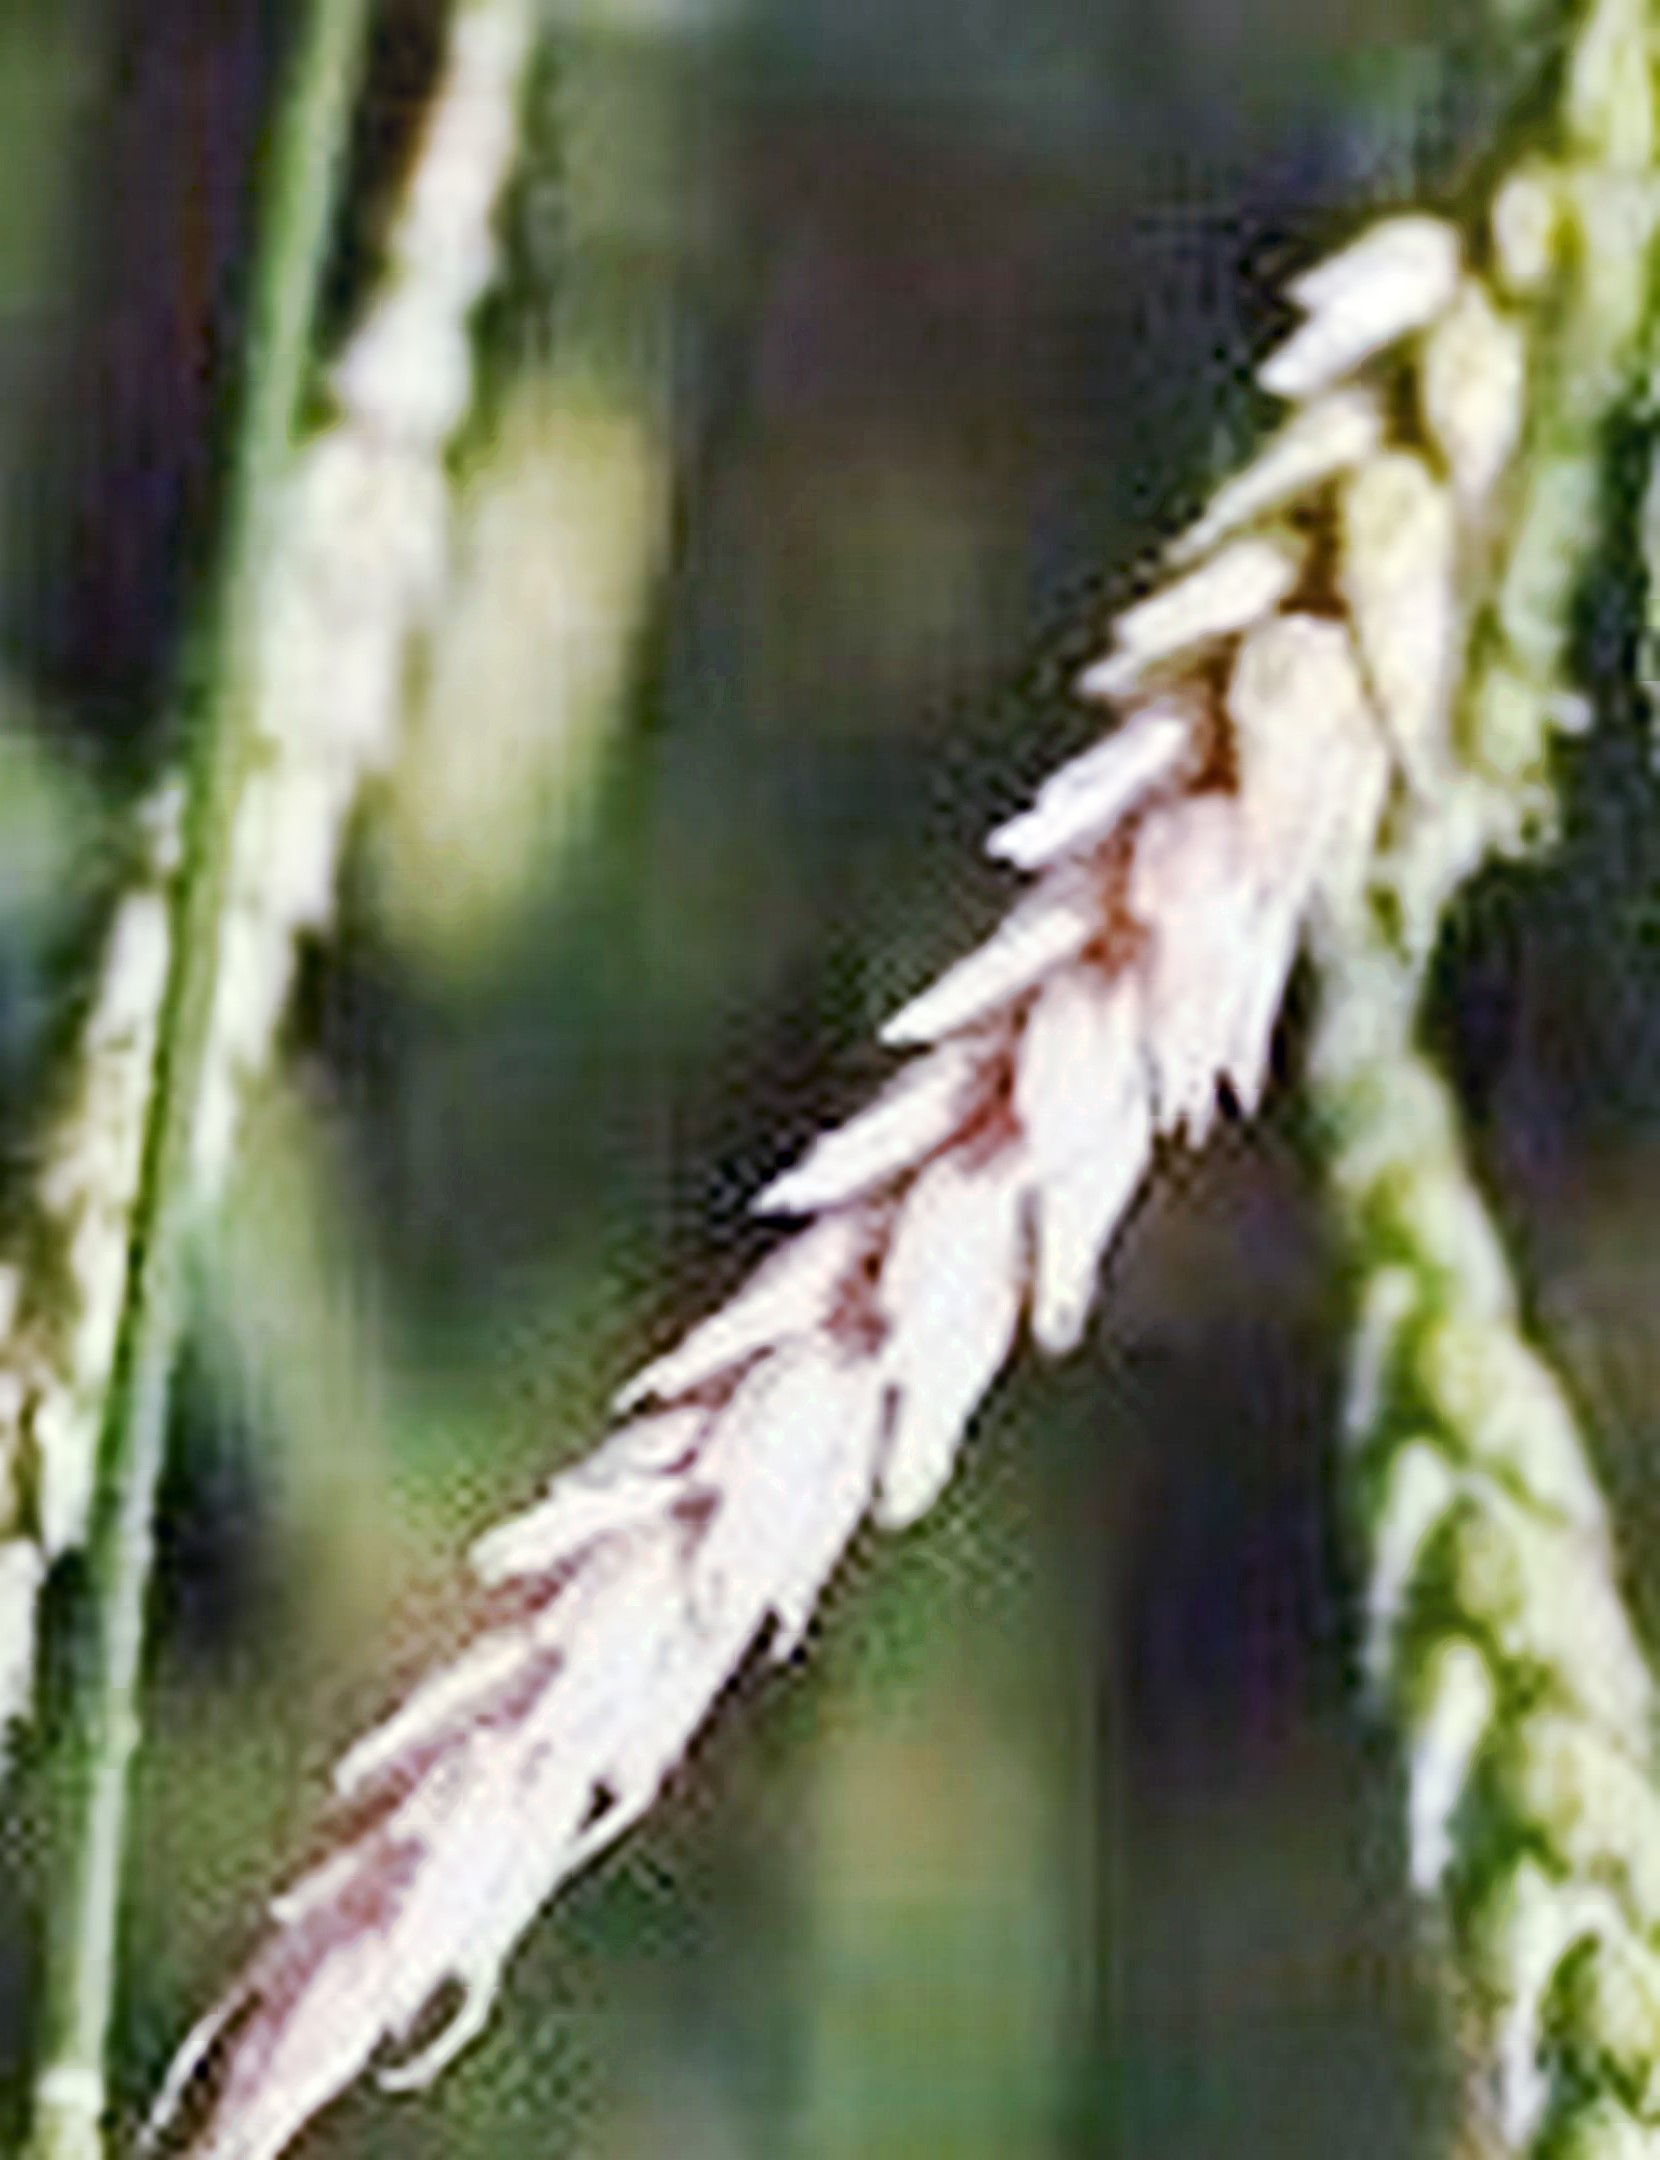Wheat scab: (213, 256, 1561, 1996)
